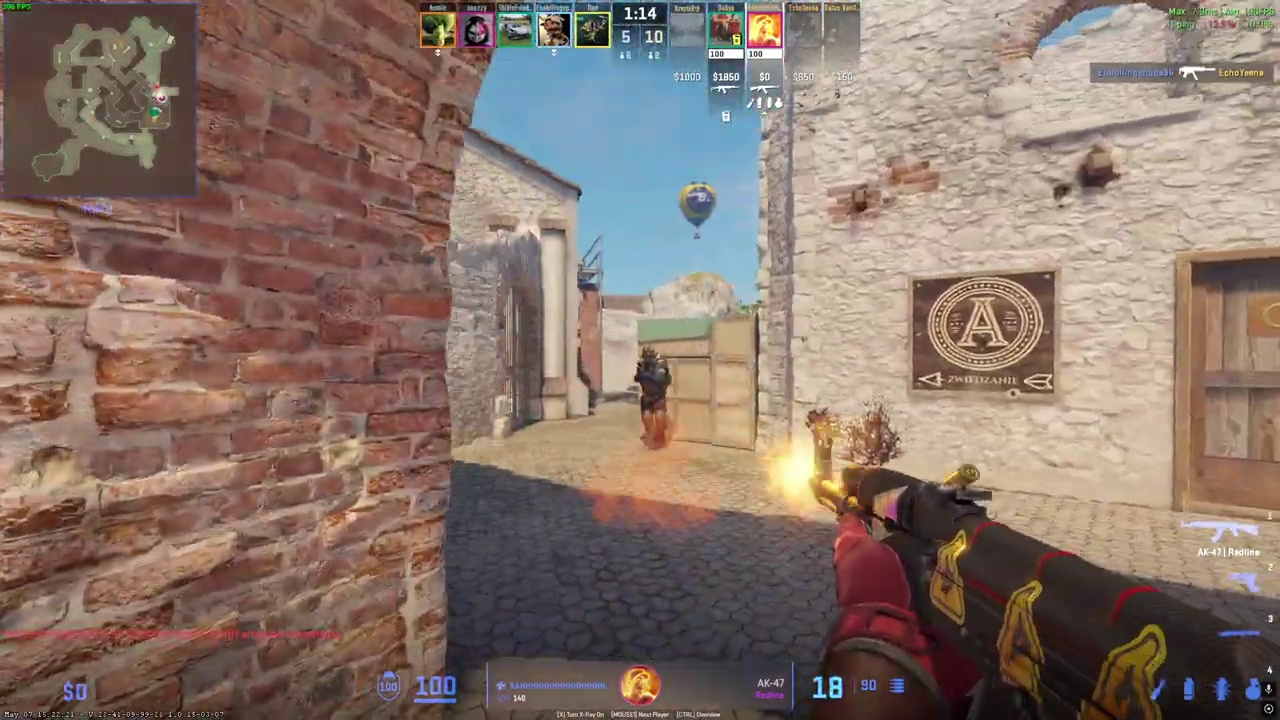CT: (634, 345, 672, 448)
